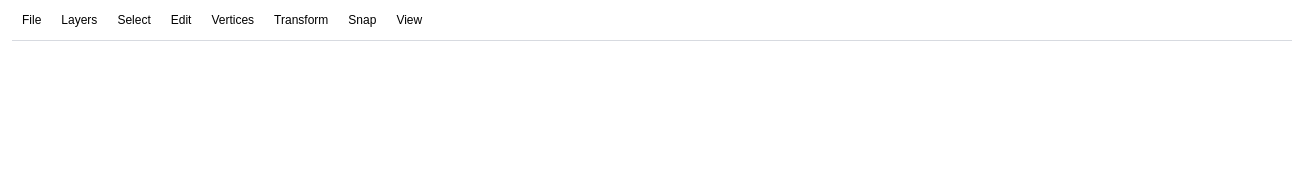
Test: the menu bar › runs a command and closes
Click the menu item "Snap".
click(362, 20)  # box x1=338 y1=13 x2=386 y2=27
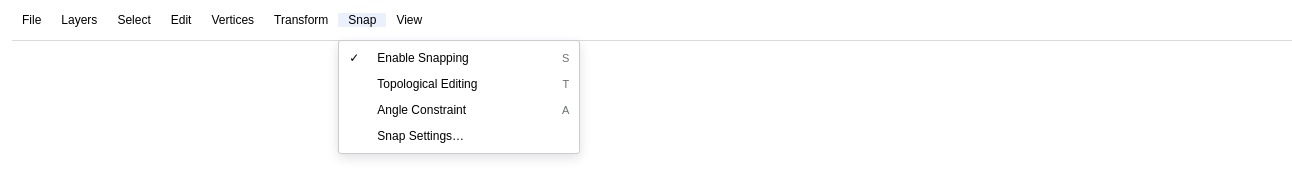
Click the menu item "✓ Enable Snapping S".
click(459, 58)  # box x1=339 y1=45 x2=579 y2=71
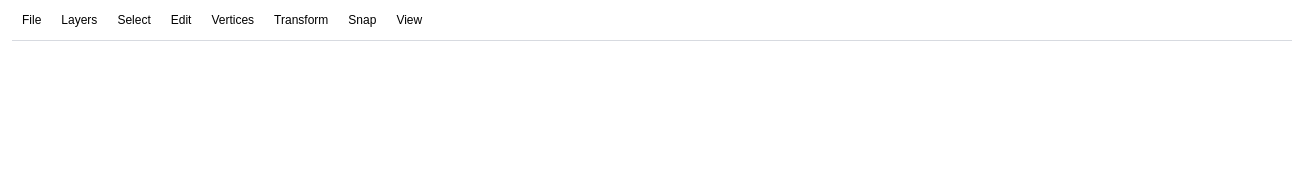
expect the menu is gone: met
